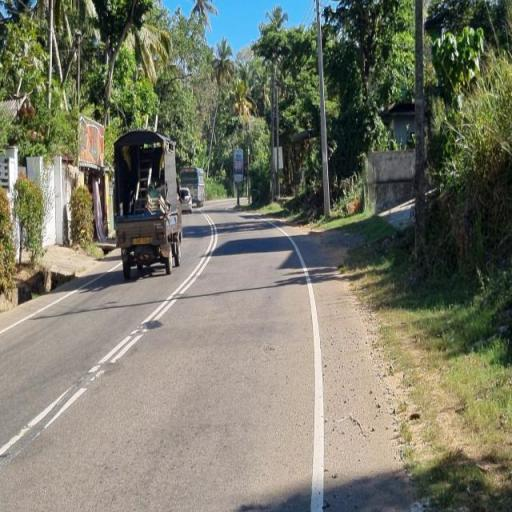double_white_line: (86, 212, 219, 378)
